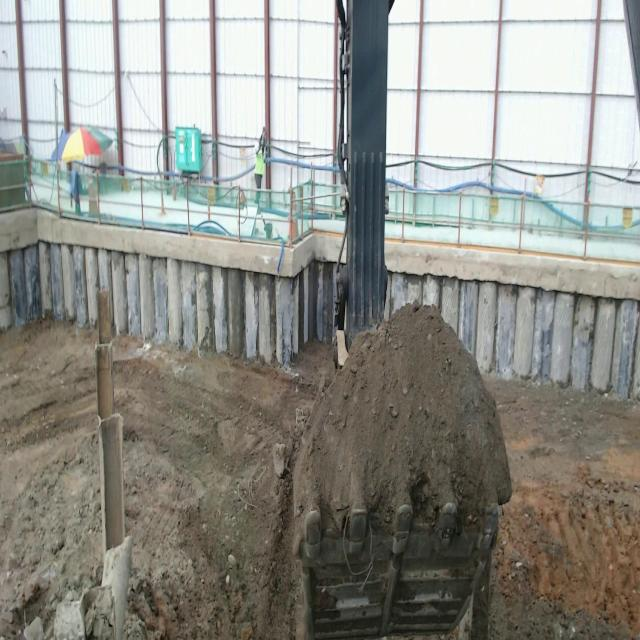red-sand: (115, 338, 329, 639), (294, 305, 511, 535), (485, 377, 640, 639), (0, 321, 102, 639)
